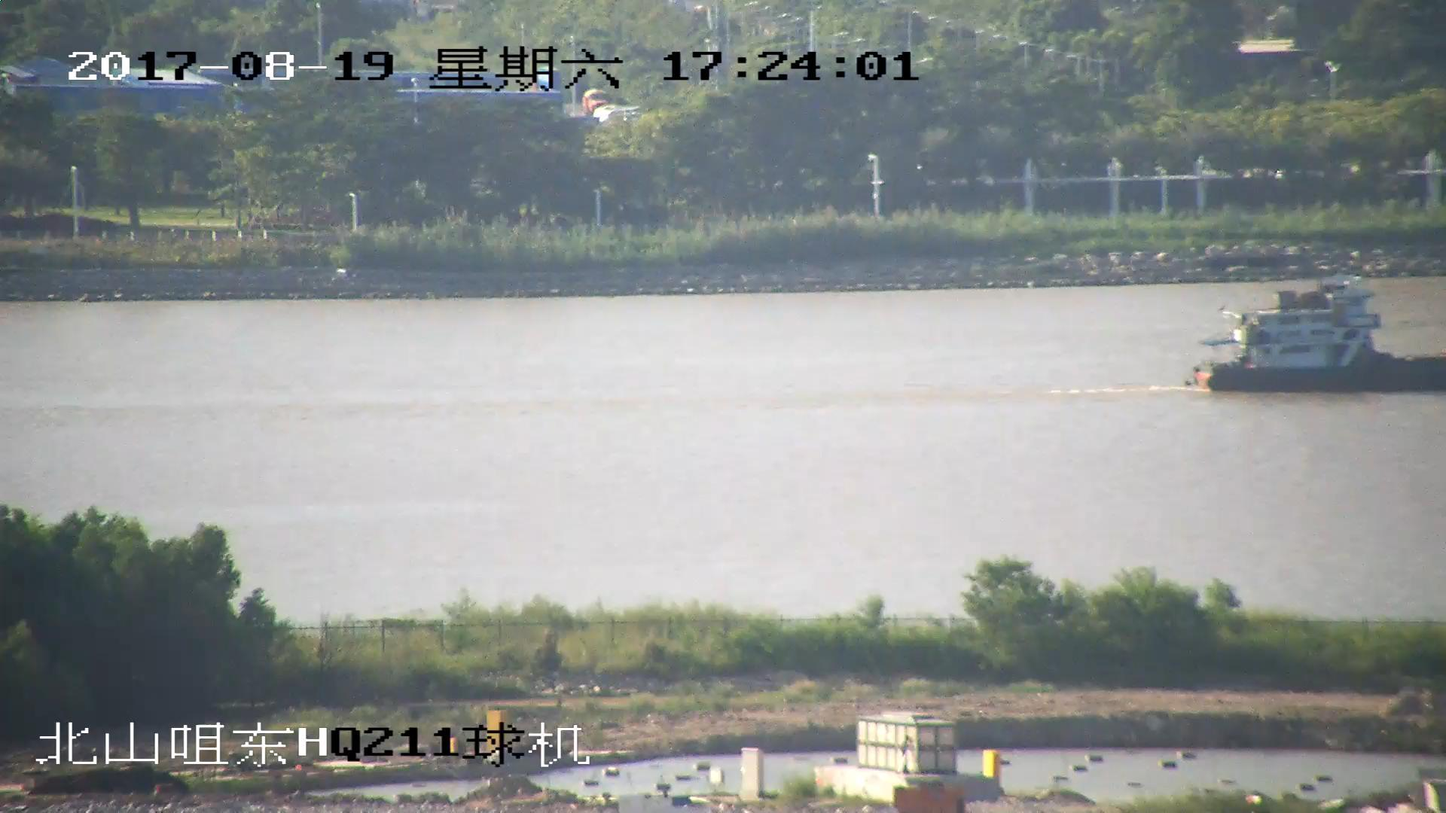bulk cargo carrier: (1188, 285, 1445, 391)
